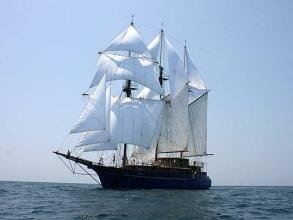fanchuan: (55, 13, 213, 195)
